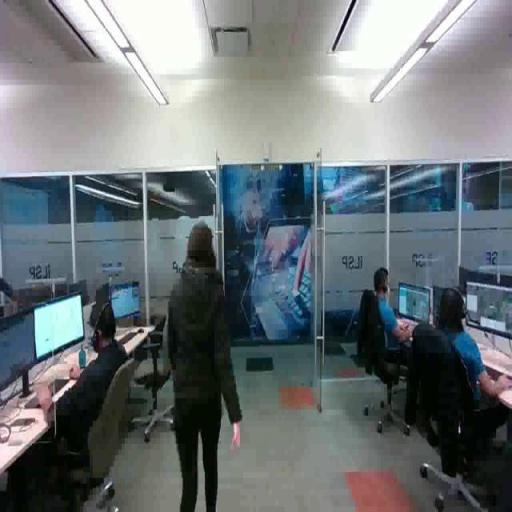person: (18, 298, 148, 506), (164, 221, 243, 512), (415, 289, 512, 488), (358, 262, 429, 390)
